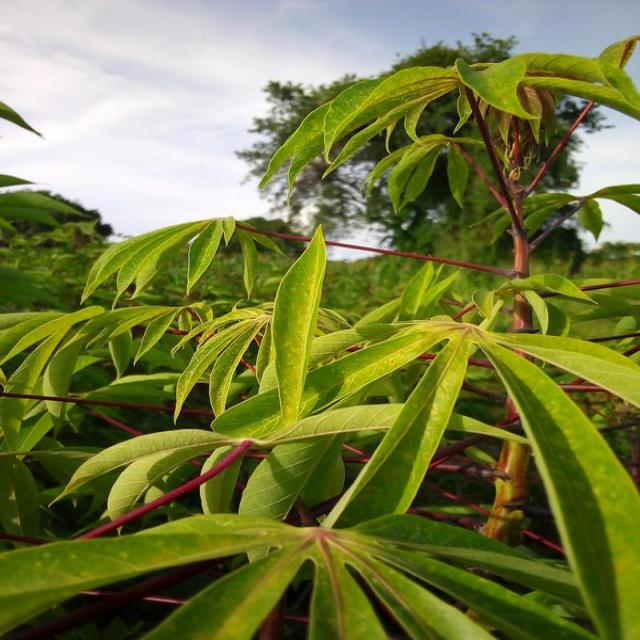cassava leaf: (1, 215, 638, 638), (472, 327, 638, 638), (269, 222, 326, 427)
